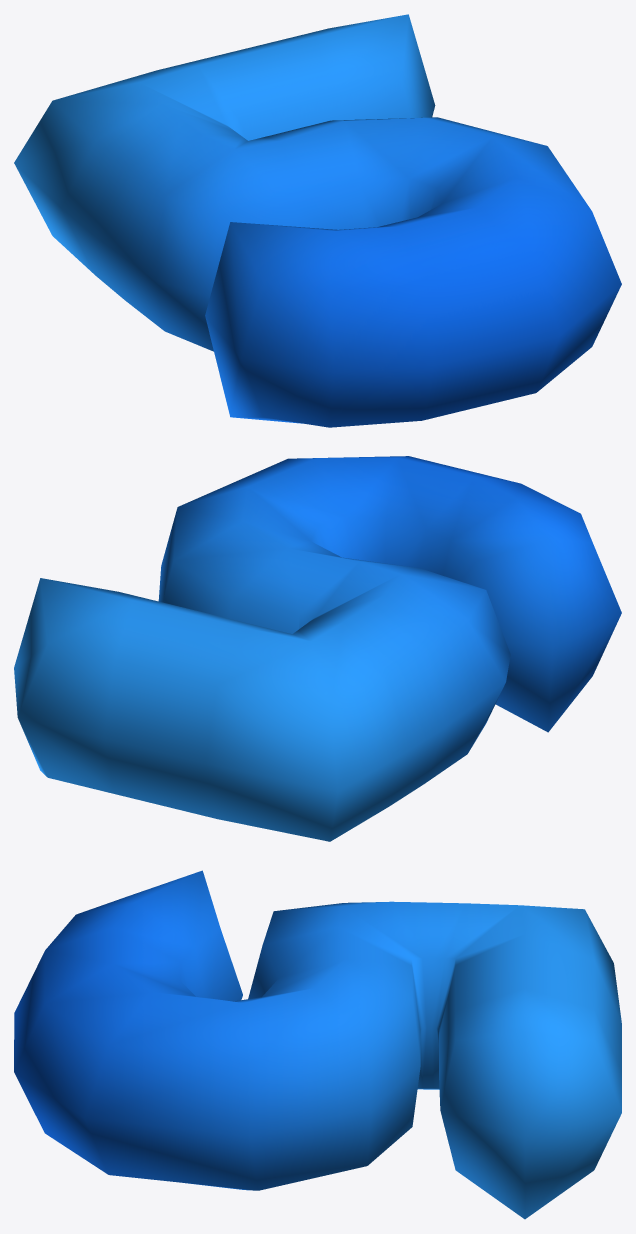
File: CartoonFont_5.FBX
The picture shows the model from 3 angles, top to bottom: view 1: azimuth 30°, elevation 25°; view 2: azimuth 150°, elevation 25°; view 3: azimuth 270°, elevation 25°; orthographic projection. The views are drawn at different scales.
Visible parts, largest first — view 1: 5; view 2: 5; view 3: 5.
Boxes of the visible parts, x1,y1,x2,y2 form: 5: (14,14,621,427); 5: (14,456,621,841); 5: (14,870,621,1219).
Size of the model in its own units: 21.48 by 9.9 by 29.15.
Materials: 1 (1 with a texture image).
